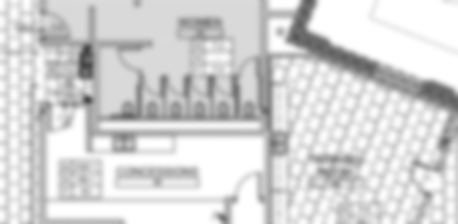door: (409, 157, 437, 196), (233, 170, 262, 200), (48, 103, 76, 133), (41, 12, 72, 39), (117, 46, 144, 73), (237, 55, 261, 76), (165, 75, 187, 97), (214, 74, 234, 98), (190, 75, 211, 97), (142, 74, 162, 96)
wall: (259, 1, 271, 130), (437, 106, 458, 179), (90, 128, 269, 136), (97, 115, 263, 123), (37, 38, 156, 48), (38, 101, 46, 224), (264, 130, 274, 224), (408, 191, 434, 224), (91, 44, 100, 138), (36, 219, 130, 224), (87, 6, 97, 49), (223, 195, 232, 224)
window: (372, 54, 426, 99)
